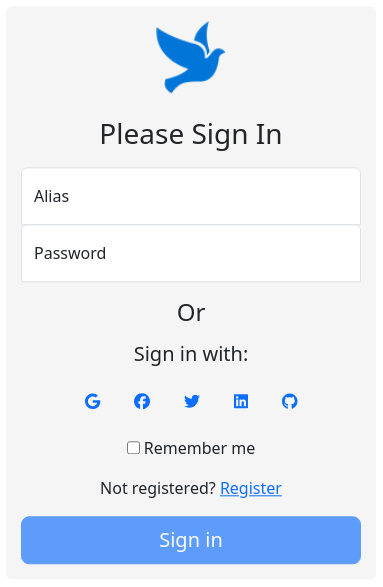
Test: Login Component › disables the sign in button if either the alias or passord field is cleared
Step 1. Type "a" into the field labelled "Alias" → (191, 196), box [21,167,361,225]
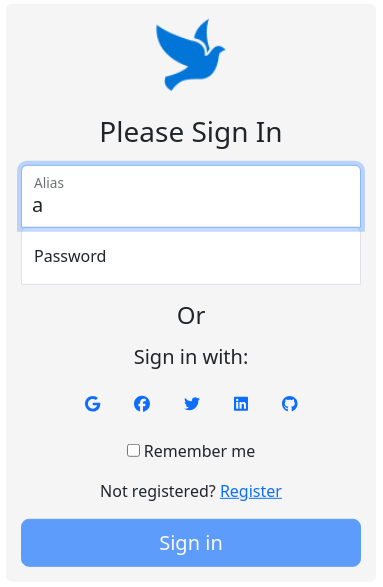
Step 2. Type "a" into the password field labelled "Password" → (191, 255), box [21,226,361,284]
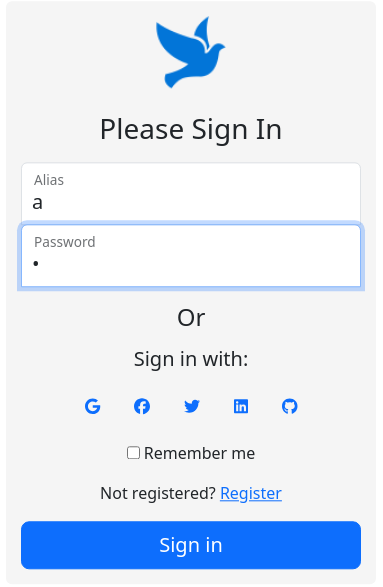
Check: the button "Sign in" is enabled, box [21,522,361,570]
Step 3. Clear the field labelled "Alias" → (191, 193), box [21,162,361,225]
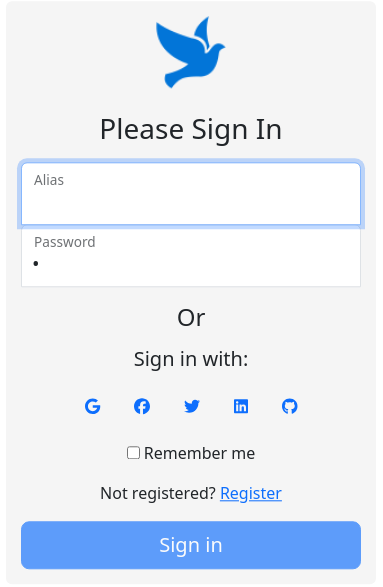
Check: the button "Sign in" is disabled, box [21,522,361,570]
Step 4. Type "a" into the field labelled "Alias" → (191, 193), box [21,162,361,225]
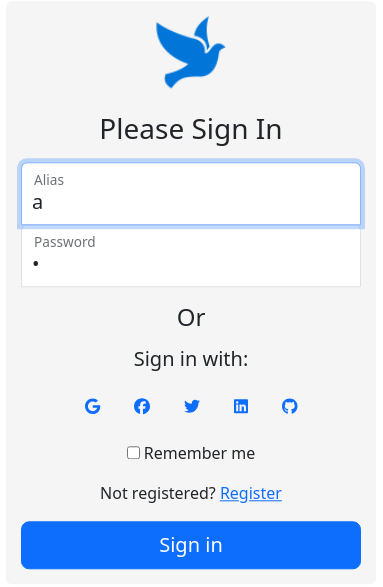
Check: the button "Sign in" is enabled, box [21,522,361,570]
Step 5. Clear the password field labelled "Password" → (191, 255), box [21,224,361,287]
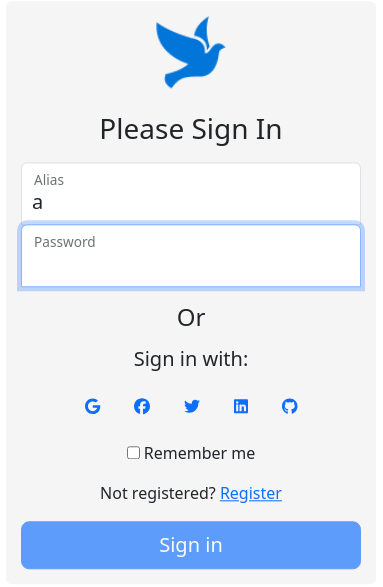
Check: the button "Sign in" is disabled, box [21,522,361,570]
